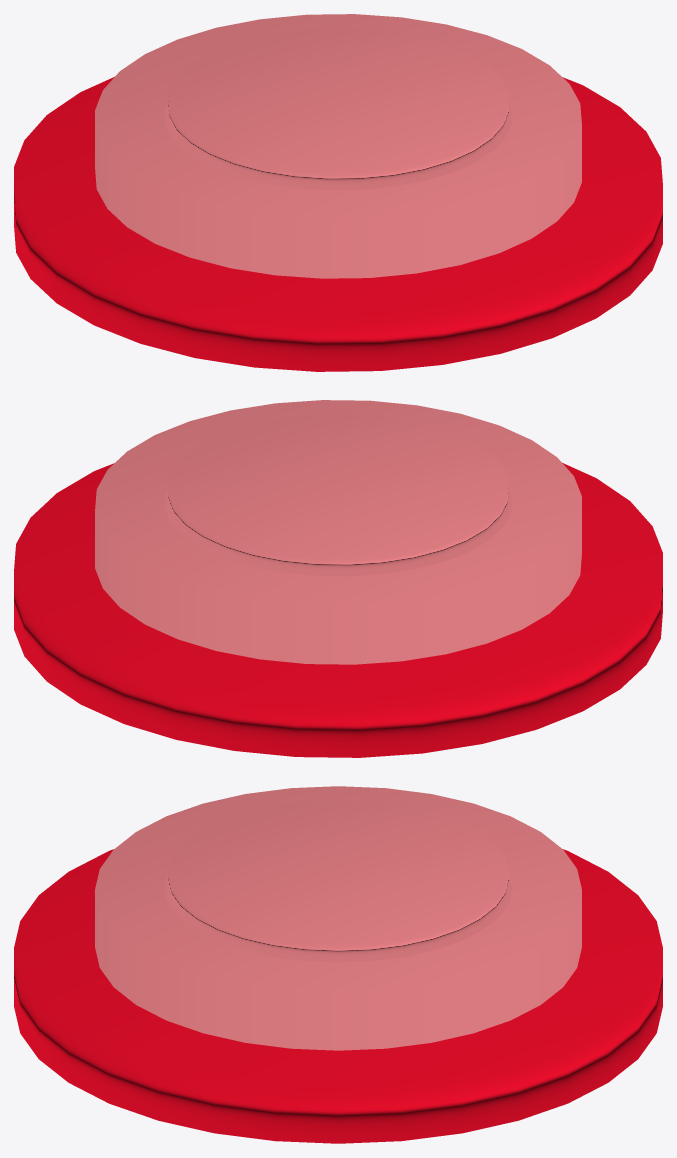
File: Token.fbx
3 renders of one model, top to bottom at view 1: azimuth 30°, elevation 25°; view 2: azimuth 150°, elevation 25°; view 3: azimuth 270°, elevation 25°, orthographic.
Parts seen in each view (by area): view 1: Cylinder.001, Cylinder; view 2: Cylinder.001, Cylinder; view 3: Cylinder.001, Cylinder.
Part boxes in pixels (x1,y1,x2,y2): Cylinder.001: (95,14,581,278); Cylinder: (14,77,662,371); Cylinder.001: (95,400,581,664); Cylinder: (14,463,662,757); Cylinder.001: (95,786,581,1050); Cylinder: (14,849,662,1143).
Size of the model in its own units: 200 by 45.83 by 200.
